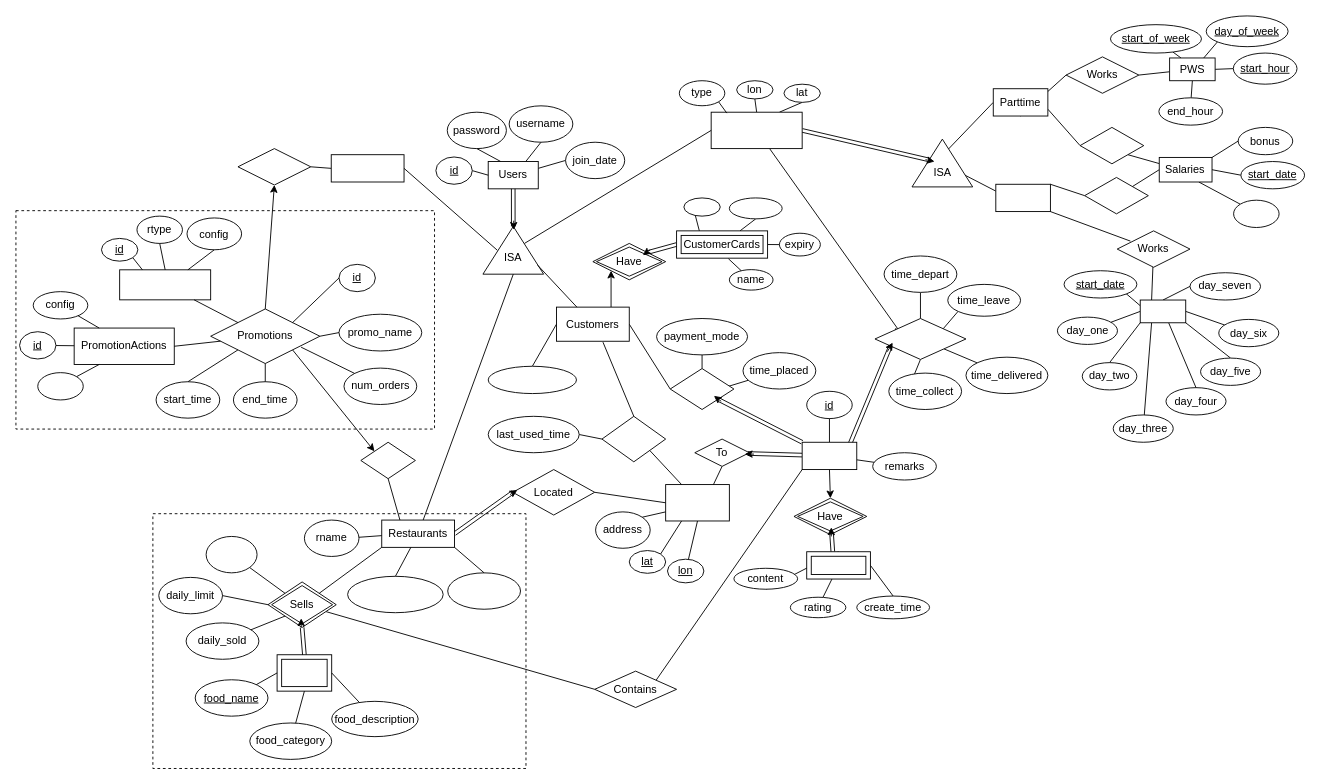
This 1321x784 diagram has some shape labels left out. Here are the shapes that lost their labels. From the top down, the centre of each, then its label:
At (756,130): "Riders".
At (1111,145): "EarnsP".
At (274,166): "Gives".
At (367,168): "Managers".
At (701,206): "cvv".
At (755,208): "number".
At (1022,197): "Fulltime".
At (1116,195): "EarnsF".
At (1256,213): "base".
At (165,284): "PromotionRules".
At (1162,311): "FWS".
At (920,338): "Delivers".
At (60,386): "atype".
At (531,379): "reward_points".
At (701,389): "Places".
At (633,438): "Uses".
At (829,455): "Orders".
At (387,460): "Sets".
At (697,502): "Locations".
At (231,554): "price".
At (838,565): "Reviews".
At (395,594): "mininum_spend".
At (484,590): "description".
At (304,672): "Food".
